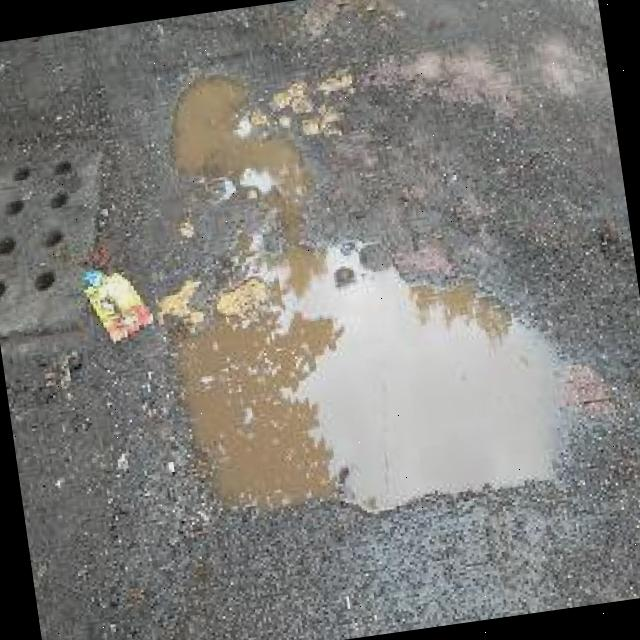stagnation: (134, 26, 630, 560)
